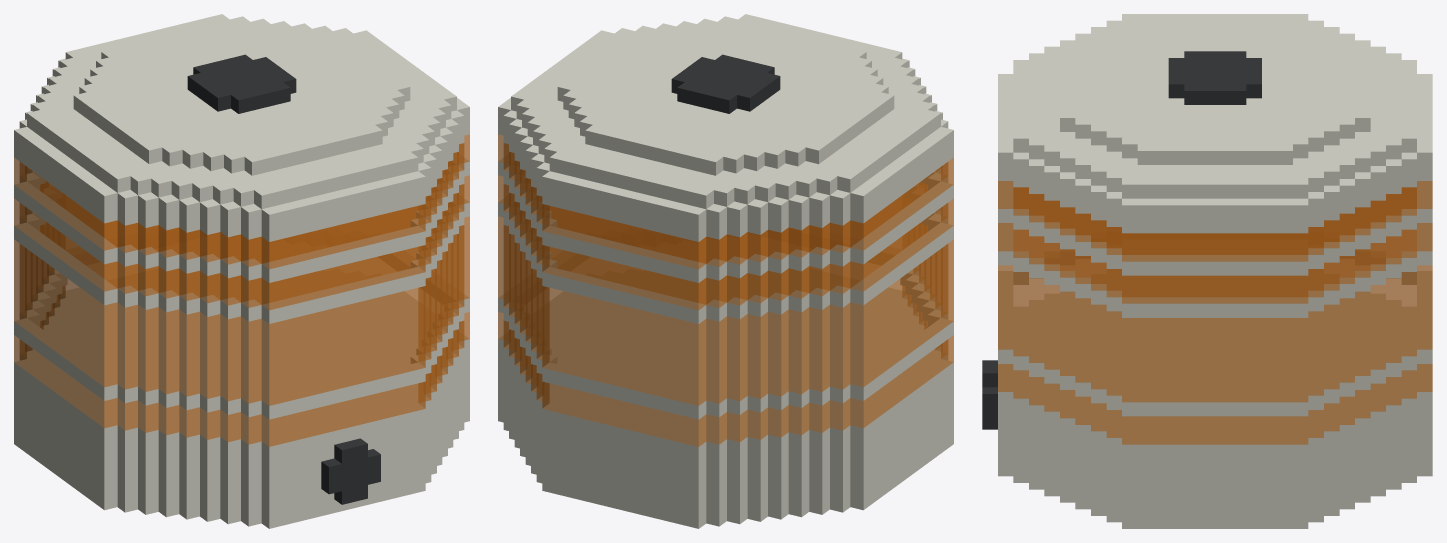
Rendered from dehydrator.glb.
3 renders of one model, left to right at view 1: azimuth 30°, elevation 25°; view 2: azimuth 150°, elevation 25°; view 3: azimuth 270°, elevation 25°, orthographic. The views are drawn at different scales.
Visible parts, largest first — view 1: dehydrator:compound; view 2: dehydrator:compound; view 3: dehydrator:compound.
Part boxes in pixels (left/top/right/bottom): dehydrator:compound: left=14, top=14, right=469, bottom=528; dehydrator:compound: left=498, top=14, right=953, bottom=528; dehydrator:compound: left=982, top=14, right=1432, bottom=528.
Size of the model in its own units: 0.28 by 0.26 by 0.29.
